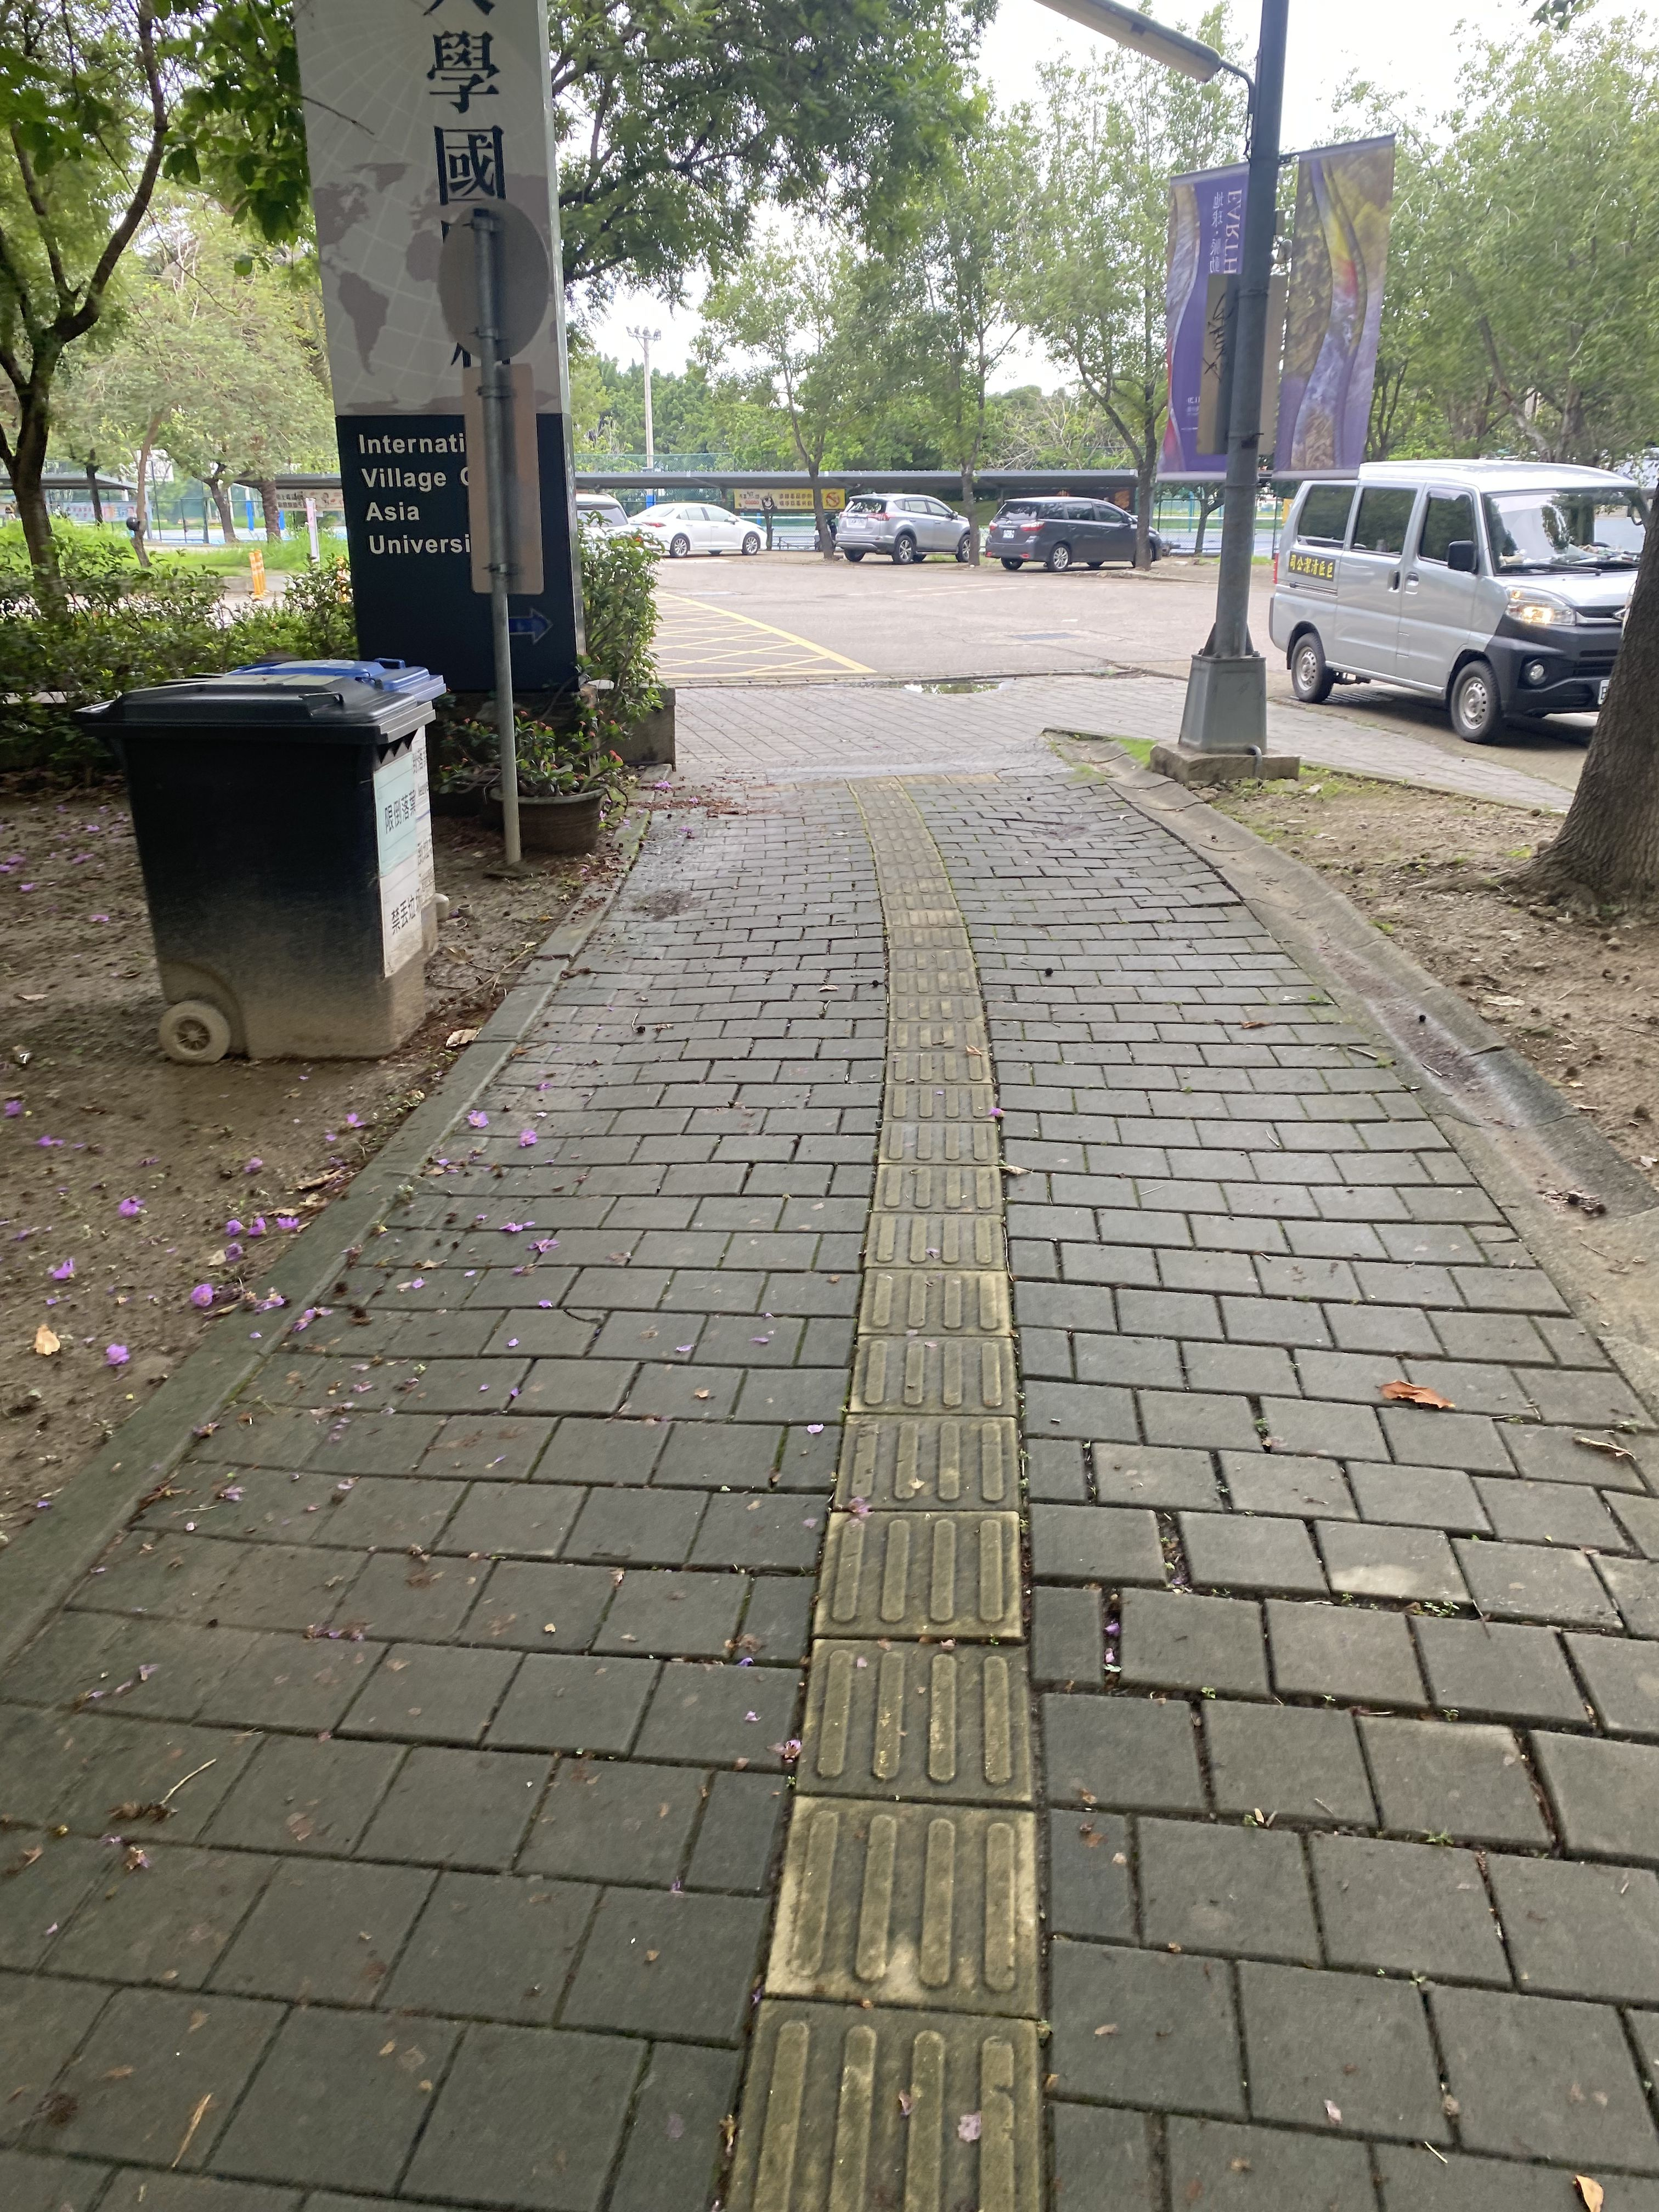sidewalk: (0, 627, 1659, 2207)
